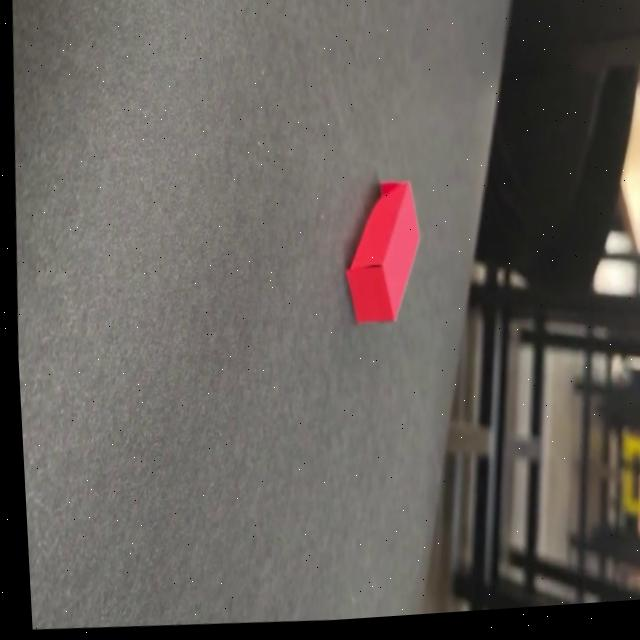red block: (338, 176, 427, 329)
